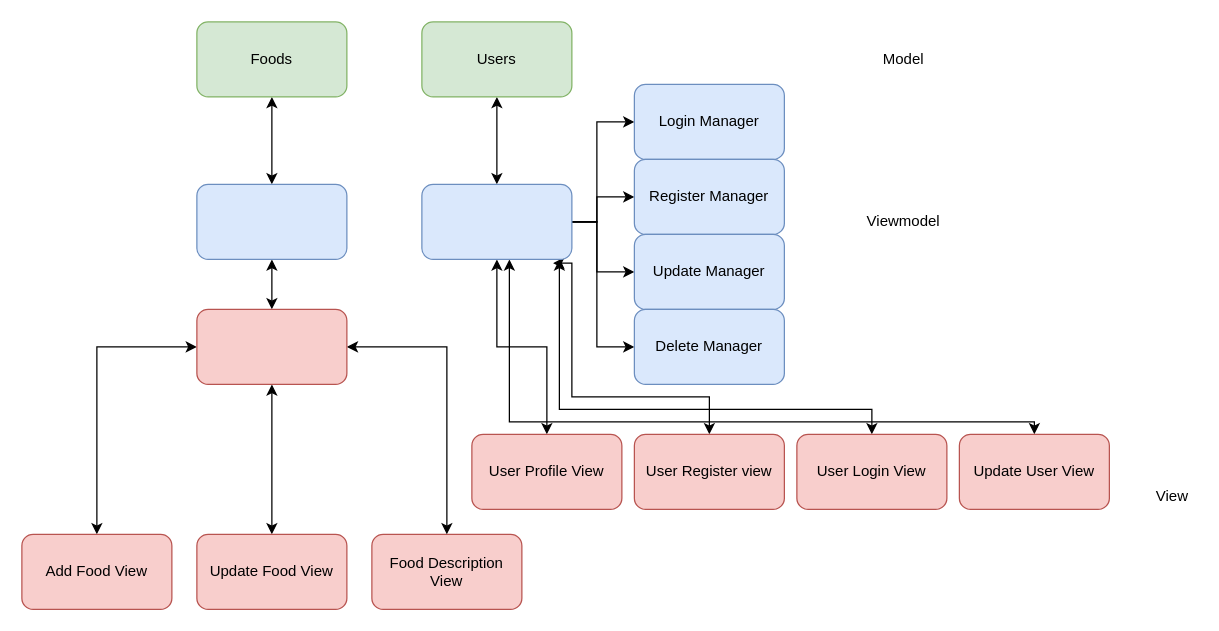
Image size: 1219x631. Some labels were removed from this diagram. The box of each missing label's shape, as (x1, y1, x2, y2) in pixels:
FoodModel: (196, 183, 347, 259)
Search Menu View: (196, 308, 347, 384)
User Account Systems: (421, 183, 572, 259)
